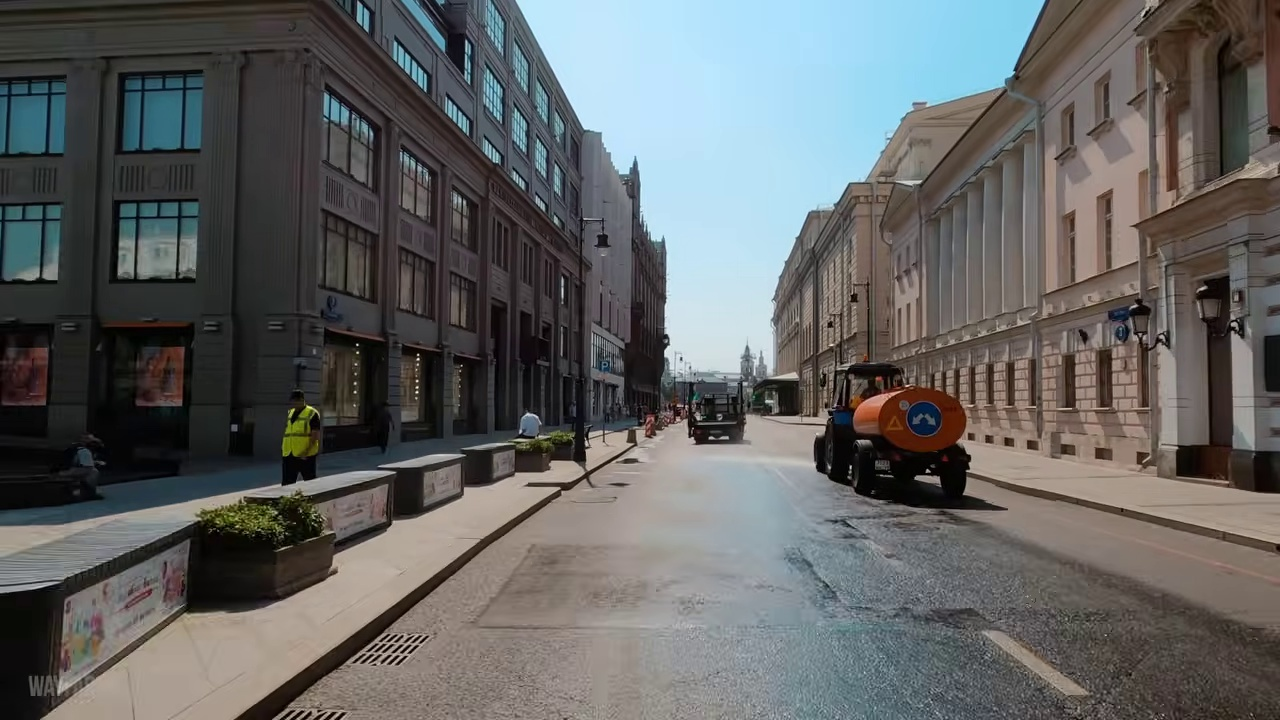apagada: (593, 233, 614, 258)
